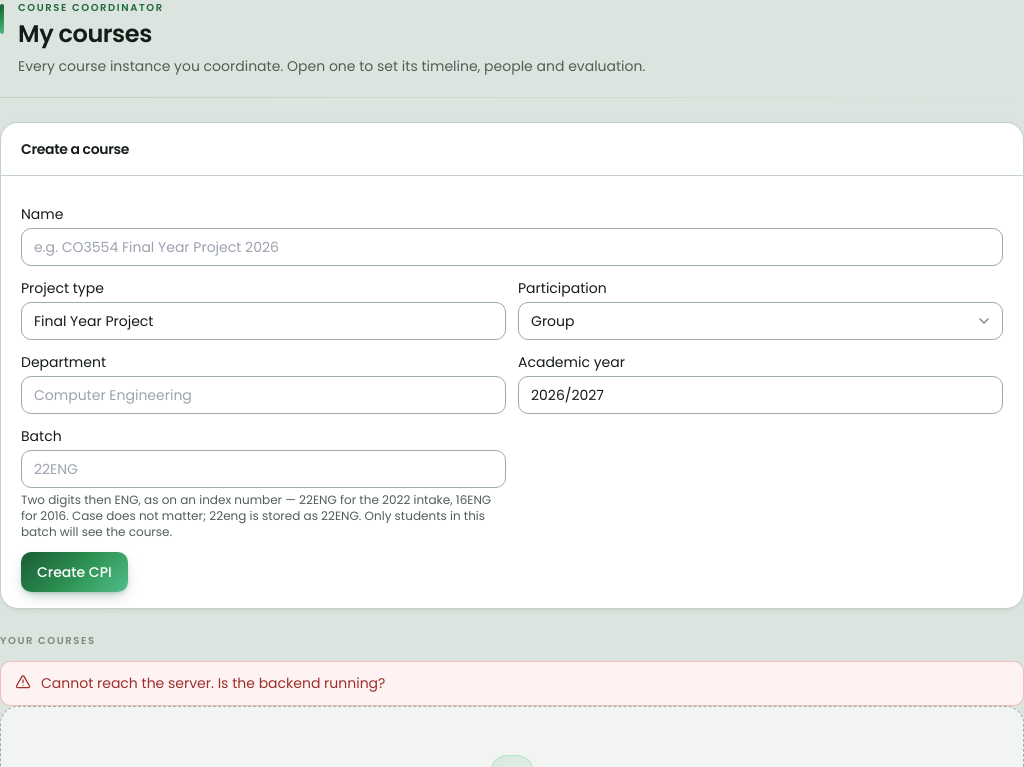
Test: Creating a course › will not submit without a batch
Click the button "Create CPI": (74, 572) [21, 552, 128, 592]
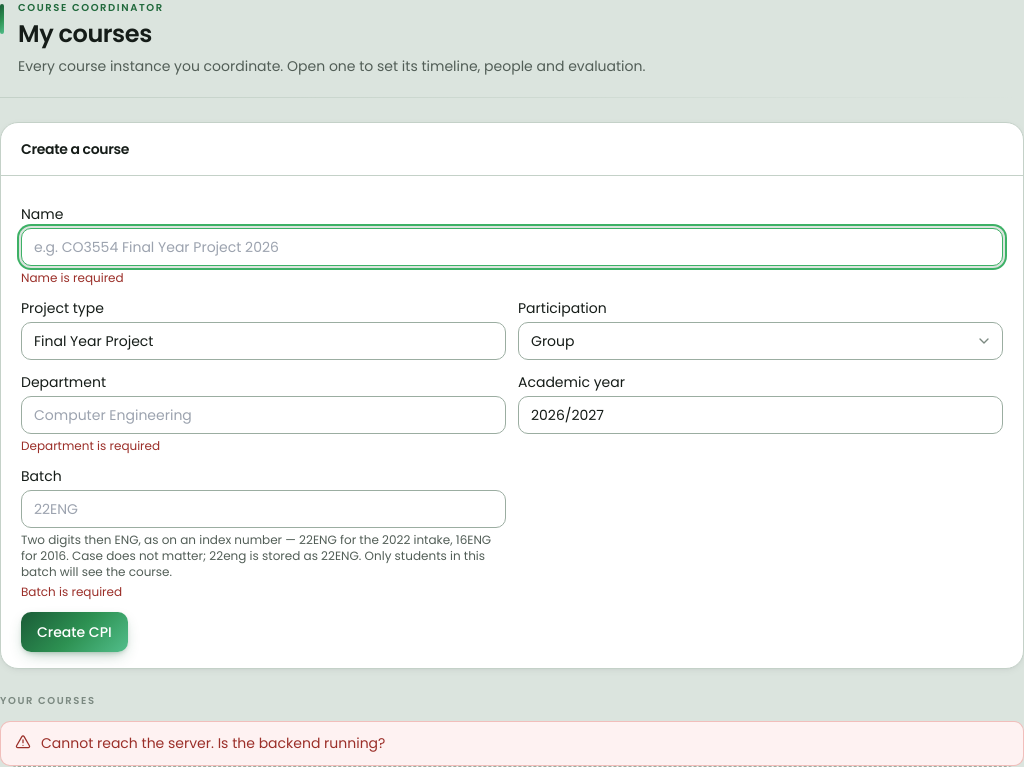
Expected: the text "Batch is required" is shown, [21, 583, 122, 600]
